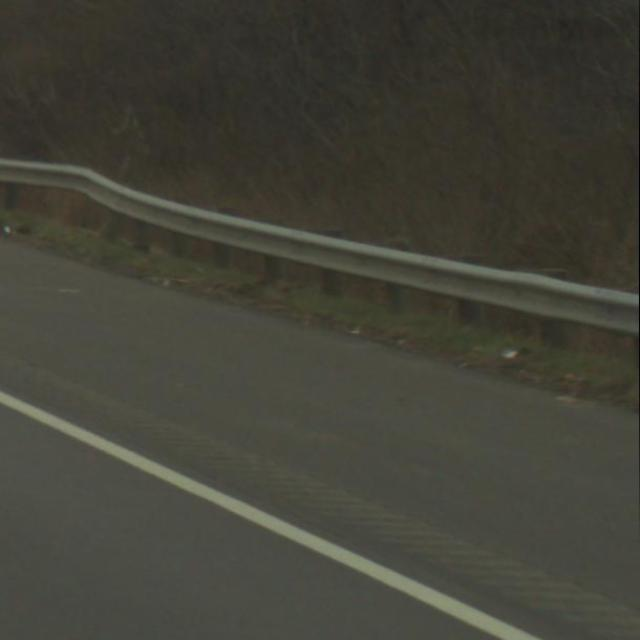Guard rail: (0, 153, 637, 367)
